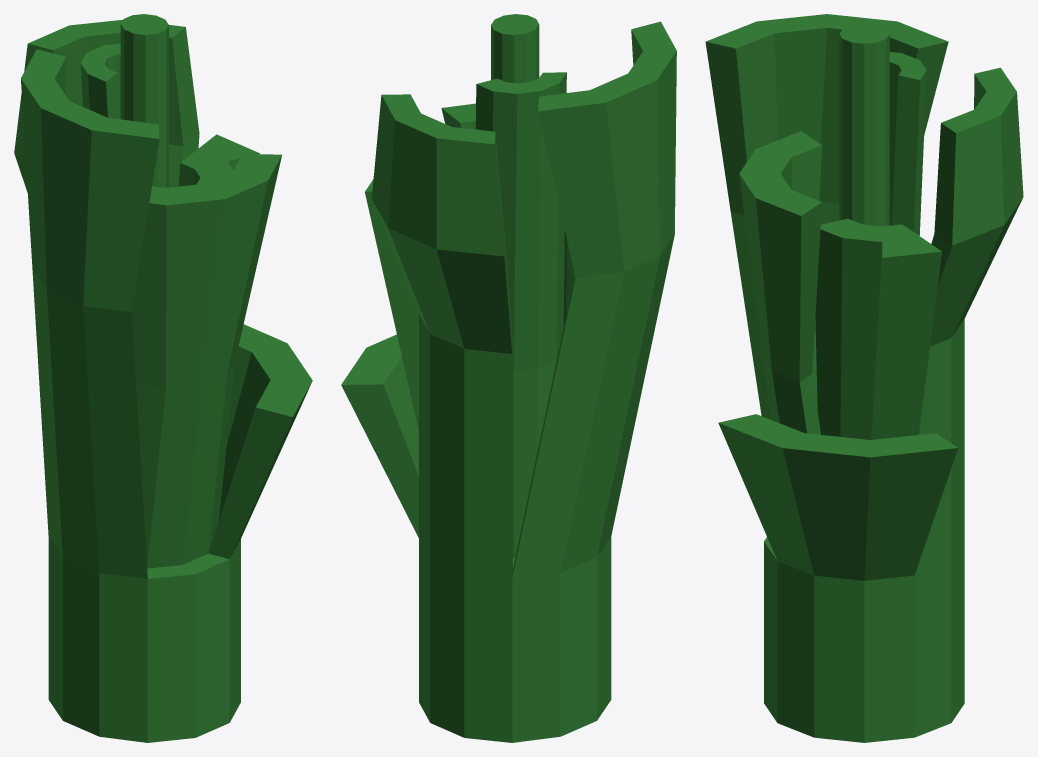
The model's file is sapling_1.fbx.
3 renders of one model, left to right at view 1: azimuth 30°, elevation 25°; view 2: azimuth 150°, elevation 25°; view 3: azimuth 270°, elevation 25°, orthographic.
Visible parts, largest first — view 1: pCylinder1; view 2: pCylinder1; view 3: pCylinder1.
Part boxes in pixels (x1,y1,x2,y2): pCylinder1: [14, 14, 312, 742]; pCylinder1: [341, 14, 676, 742]; pCylinder1: [705, 14, 1023, 742].
Size of the model in its own units: 0.3325 by 0.7999 by 0.3444.
